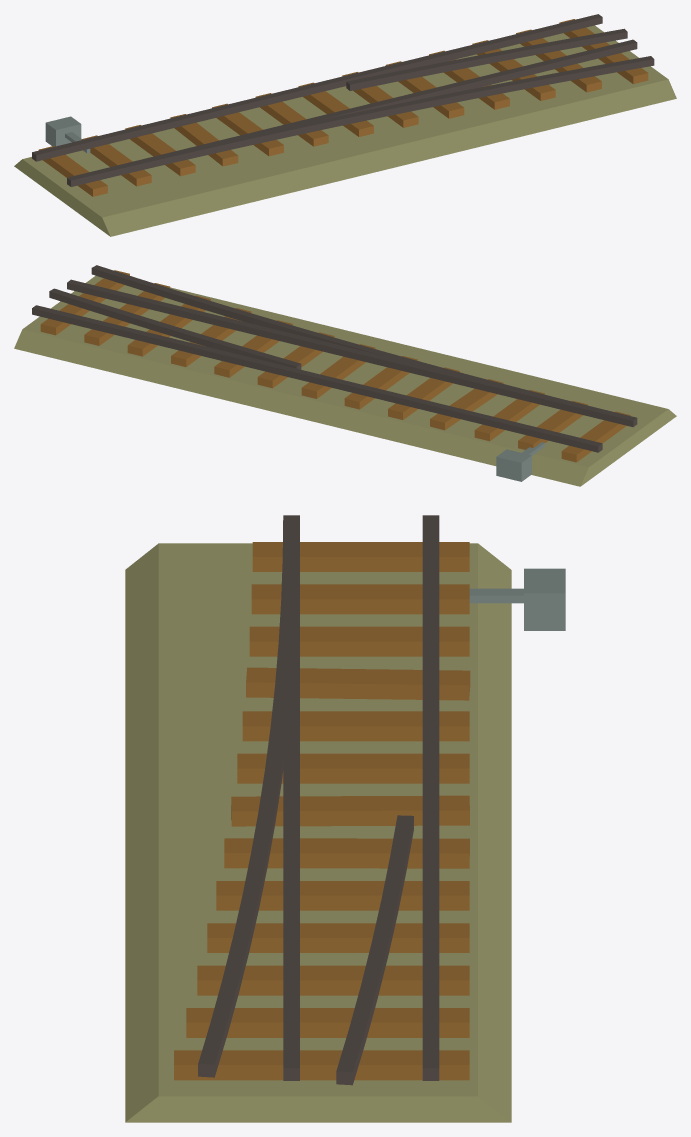
The model's file is SM_Via_DesvioDer_v1_Madera_LOD1.fbx.
The picture shows the model from 3 angles, top to bottom: view 1: azimuth 30°, elevation 25°; view 2: azimuth 150°, elevation 25°; view 3: azimuth 270°, elevation 25°; orthographic projection. The views are drawn at different scales.
Visible parts, largest first — view 1: SM_via_trazado_v31_LOD1; view 2: SM_via_trazado_v31_LOD1; view 3: SM_via_trazado_v31_LOD1.
Part boxes in pixels (x1,y1,x2,y2): SM_via_trazado_v31_LOD1: (14,14,676,236); SM_via_trazado_v31_LOD1: (14,265,676,486); SM_via_trazado_v31_LOD1: (125,515,565,1122).
Size of the model in its own units: 15.79 by 0.721 by 5.28.
